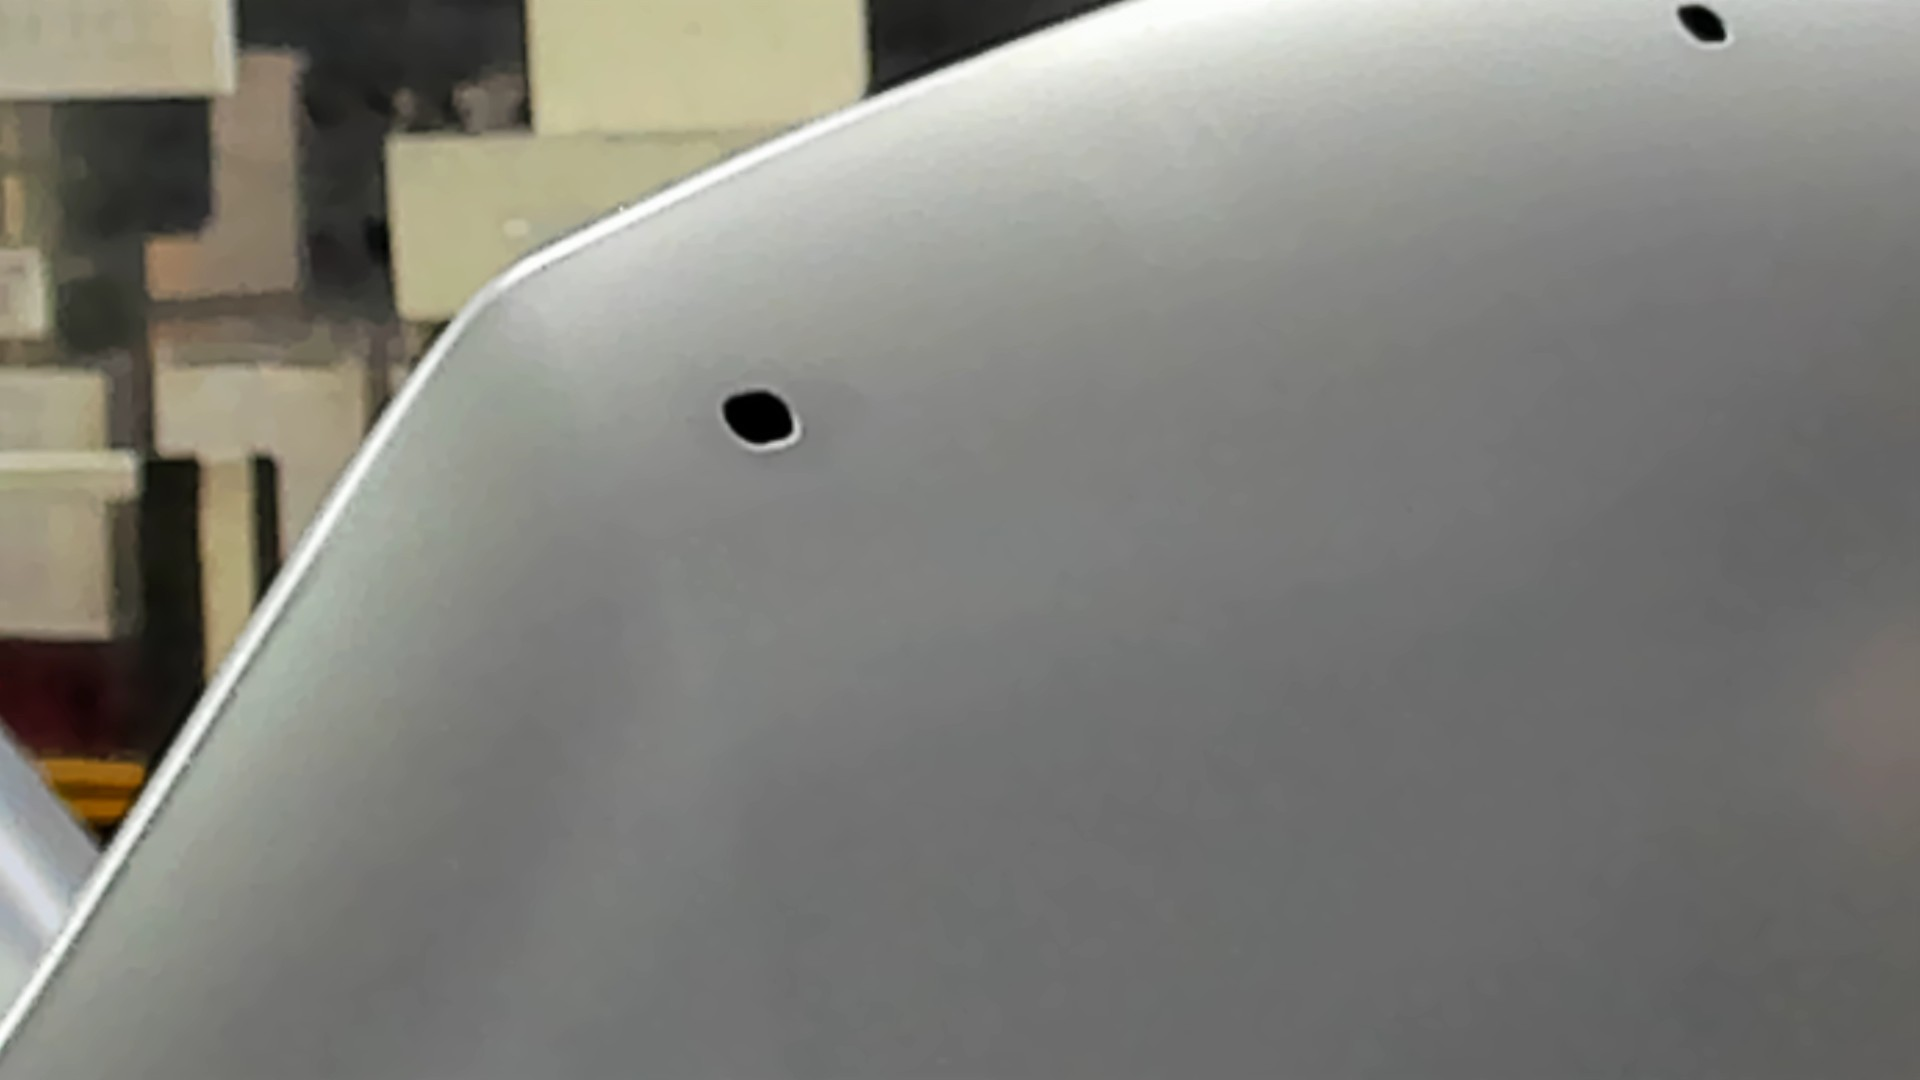amorfo: (713, 385, 806, 454), (1668, 1, 1737, 51)
capo: (957, 111, 1920, 1080)
